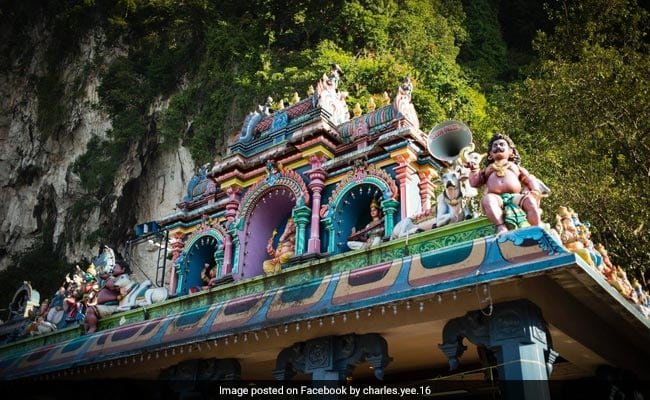Hindu Temple: (178, 95, 544, 305)
